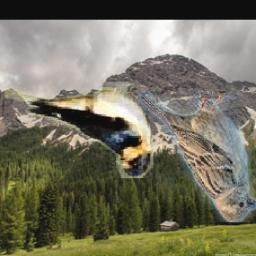Sparrow: (136, 91, 256, 222)
Swallow: (5, 83, 153, 179)
